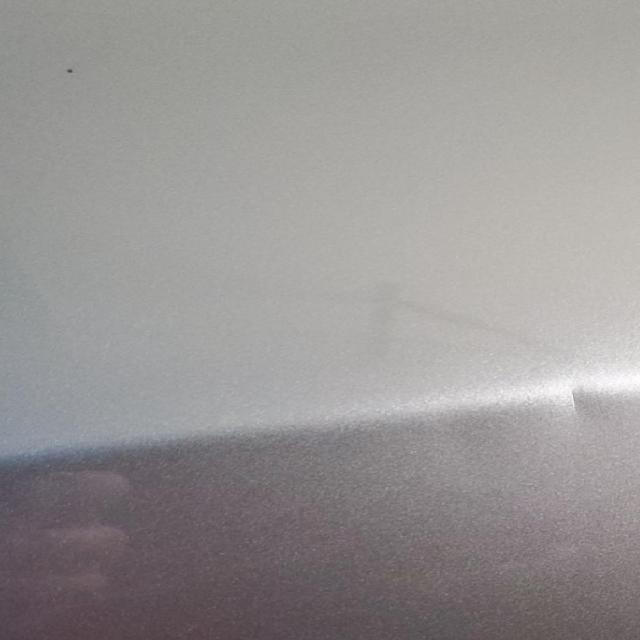dents: (532, 361, 630, 451)
